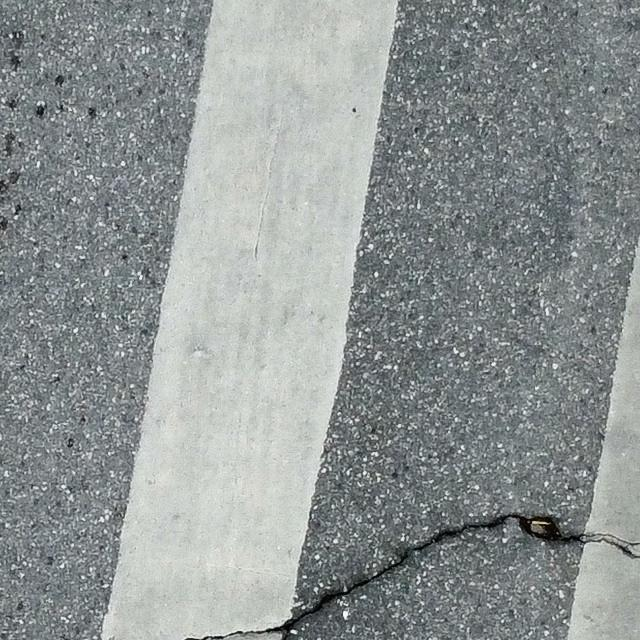TransverseCrack: (185, 512, 640, 640)
